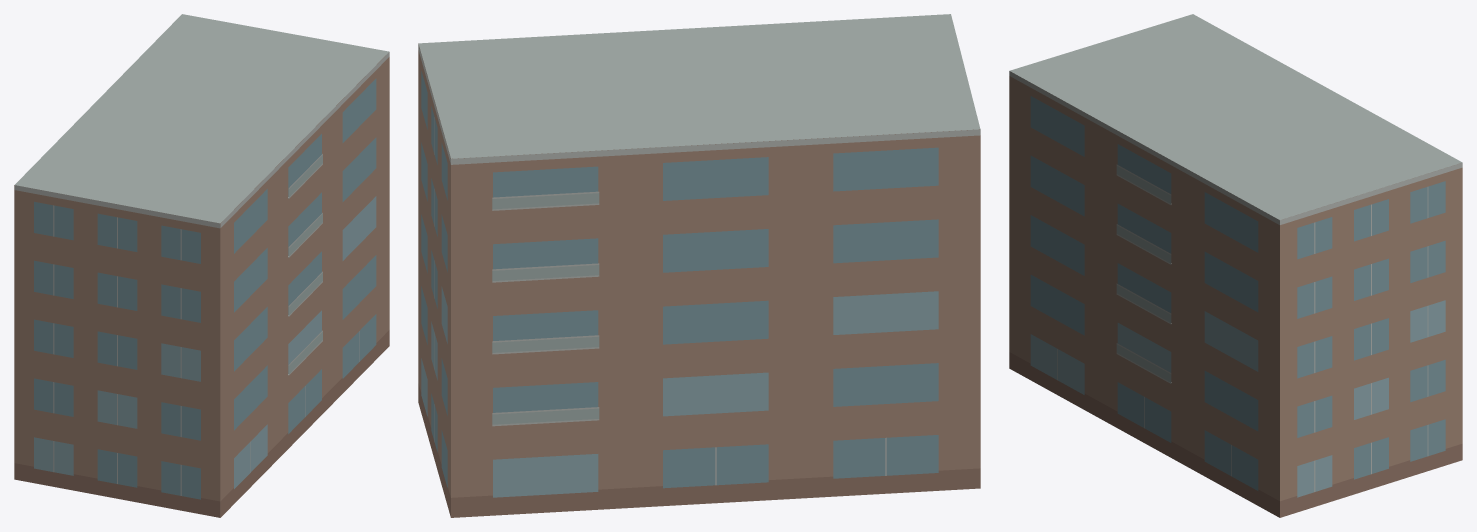
File: survey-upis-32821016.glb
3 views of the same model, side by side, from view 1: azimuth 30°, elevation 25°; view 2: azimuth 150°, elevation 25°; view 3: azimuth 270°, elevation 25° (orthographic). The views are drawn at different scales.
Parts seen in each view (by area): view 1: survey-upis-32821016.tmp; view 2: survey-upis-32821016.tmp; view 3: survey-upis-32821016.tmp.
Part boxes in pixels (box(x1,y1,x2,y2)): survey-upis-32821016.tmp: box(14, 14, 389, 517); survey-upis-32821016.tmp: box(418, 14, 980, 517); survey-upis-32821016.tmp: box(1009, 14, 1462, 517).
Bounding box in the file's own units: 21.32 × 14.35 × 19.81.
